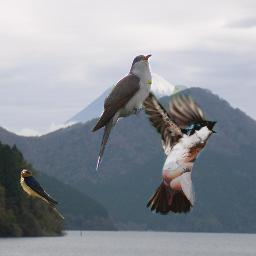Cuckoo: (91, 54, 152, 172)
Swallow: (131, 69, 219, 215), (20, 169, 65, 219)
